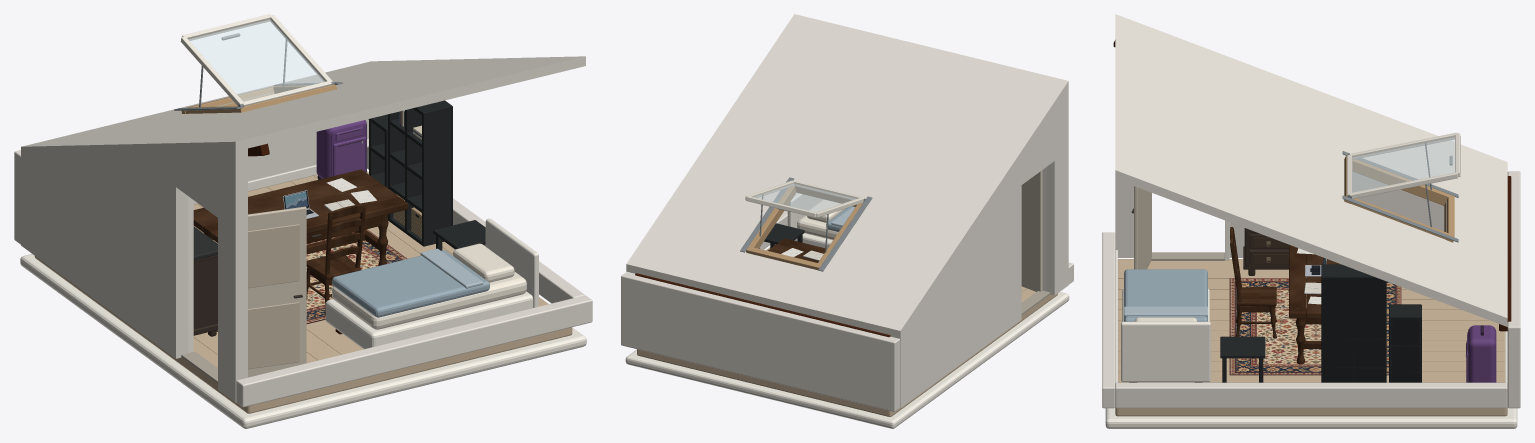
Rendered from room-04.glb.
3 views of the same model, side by side, from view 1: azimuth 30°, elevation 25°; view 2: azimuth 150°, elevation 25°; view 3: azimuth 270°, elevation 25° (orthographic). The views are drawn at different scales.
Parts seen in each view (by area): view 1: Architecture, Roof, Bed, Entrance, Roof window, Corner cabinet, Table, Chair, Antique dresser, Luggage, Rug, Bedside table (+1 smaller); view 2: Roof, Architecture, Roof window, Entrance, Bed, Table, Bedside table; view 3: Roof, Architecture, Corner cabinet, Bed, Roof window, Rug, Table, Entrance, Chair, Luggage, Antique dresser, Bedside table.
Part boxes in pixels (box(x1,y1,x2,y2)): Architecture: box(14, 119, 592, 428); Roof: box(21, 56, 585, 156); Bed: box(325, 218, 538, 349); Entrance: box(181, 195, 306, 383); Roof window: box(174, 14, 342, 113); Corner cabinet: box(368, 100, 452, 246); Table: box(193, 169, 408, 265); Chair: box(306, 204, 365, 314); Antique dresser: box(193, 226, 217, 336); Luggage: box(316, 120, 366, 179); Rug: box(216, 229, 407, 331); Bedside table: box(433, 220, 485, 250); Roof: box(626, 14, 1068, 338); Architecture: box(621, 89, 1073, 428); Roof window: box(740, 177, 872, 271); Entrance: box(1021, 167, 1050, 314); Bed: box(787, 193, 855, 248); Table: box(768, 238, 826, 262); Bedside table: box(759, 223, 804, 248); Roof: box(1113, 14, 1511, 331); Architecture: box(1102, 171, 1520, 428); Corner cabinet: box(1321, 264, 1421, 382); Bed: box(1121, 269, 1210, 382); Roof window: box(1342, 132, 1460, 242); Rug: box(1229, 278, 1401, 375); Table: box(1289, 244, 1339, 364); Entrance: box(1131, 186, 1229, 269); Chair: box(1230, 227, 1276, 338); Luggage: box(1465, 325, 1496, 382); Antique dresser: box(1243, 228, 1306, 275); Bedside table: box(1220, 336, 1265, 382).
Size of the model in its own units: 4.52 by 3.53 by 5.12.
Materials: 60 (5 with a texture image).
